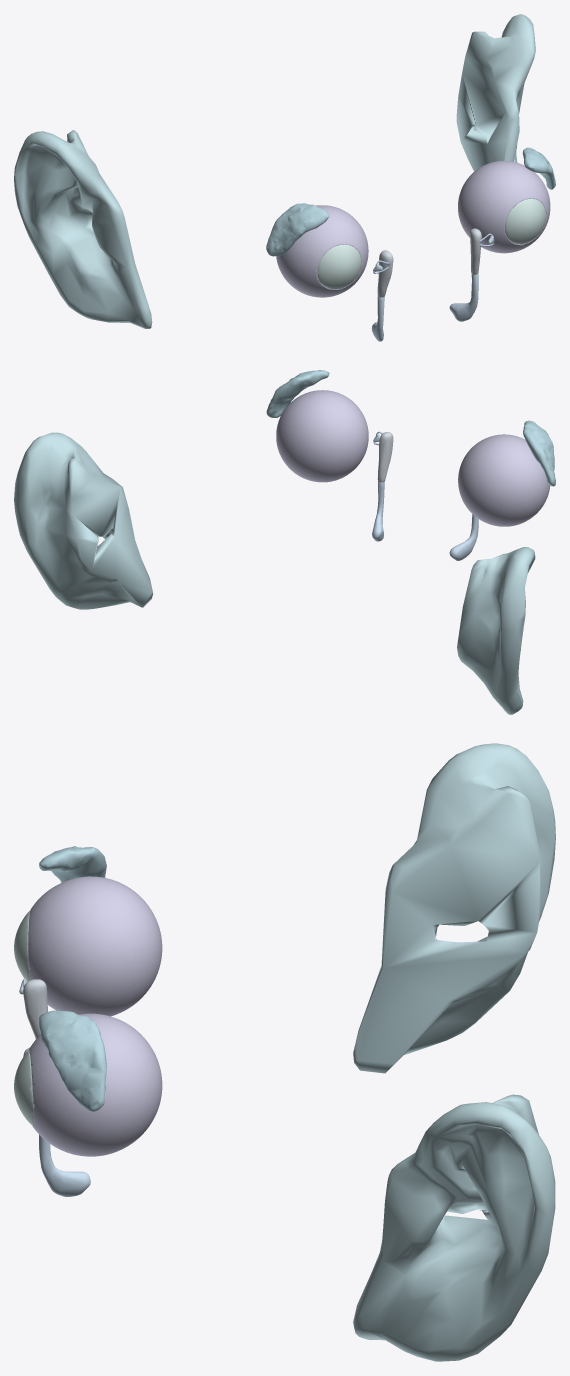
The model's file is body-sense.lod0.glb.
3 renders of one model, top to bottom at view 1: azimuth 30°, elevation 25°; view 2: azimuth 150°, elevation 25°; view 3: azimuth 270°, elevation 25°, orthographic. The views are drawn at different scales.
Parts seen in each view (by area): view 1: external-ear, sclera-l, sclera-r, lacrimal-gland-r, cornea-r, cornea-l, lacrimal-gland-l, nasolacrimal-duct-l, lacrimal-sac-r, lacrimal-sac-l; view 2: external-ear, sclera-l, sclera-r, lacrimal-gland-r, lacrimal-gland-l, lacrimal-sac-l, nasolacrimal-duct-r, nasolacrimal-duct-l; view 3: external-ear, sclera-r, sclera-l, lacrimal-gland-l, lacrimal-gland-r, nasolacrimal-duct-l, cornea-l, lacrimal-sac-r, cornea-r.
Part boxes in pixels (x1,y1,x2,y2): external-ear: [14, 14, 535, 328]; sclera-l: [458, 161, 550, 253]; sclera-r: [276, 205, 368, 297]; lacrimal-gland-r: [266, 203, 329, 256]; cornea-r: [317, 244, 361, 289]; cornea-l: [505, 198, 546, 244]; lacrimal-gland-l: [522, 147, 555, 189]; nasolacrimal-duct-l: [449, 274, 478, 321]; lacrimal-sac-r: [377, 250, 393, 297]; lacrimal-sac-l: [470, 228, 481, 274]; external-ear: [14, 432, 535, 714]; sclera-l: [276, 390, 368, 482]; sclera-r: [458, 434, 550, 526]; lacrimal-gland-r: [523, 420, 555, 486]; lacrimal-gland-l: [266, 370, 329, 417]; lacrimal-sac-l: [377, 432, 393, 482]; nasolacrimal-duct-r: [449, 514, 478, 560]; nasolacrimal-duct-l: [372, 481, 384, 541]; external-ear: [353, 743, 555, 1361]; sclera-r: [28, 876, 162, 1016]; sclera-l: [29, 1013, 162, 1156]; lacrimal-gland-l: [39, 1010, 106, 1111]; lacrimal-gland-r: [39, 846, 106, 882]; nasolacrimal-duct-l: [39, 1134, 90, 1196]; cornea-l: [14, 1050, 33, 1126]; lacrimal-sac-r: [23, 979, 47, 1039]; cornea-r: [14, 910, 30, 981].
Bounding box in the file's own units: 0.1675 × 0.0569 × 0.0995.
